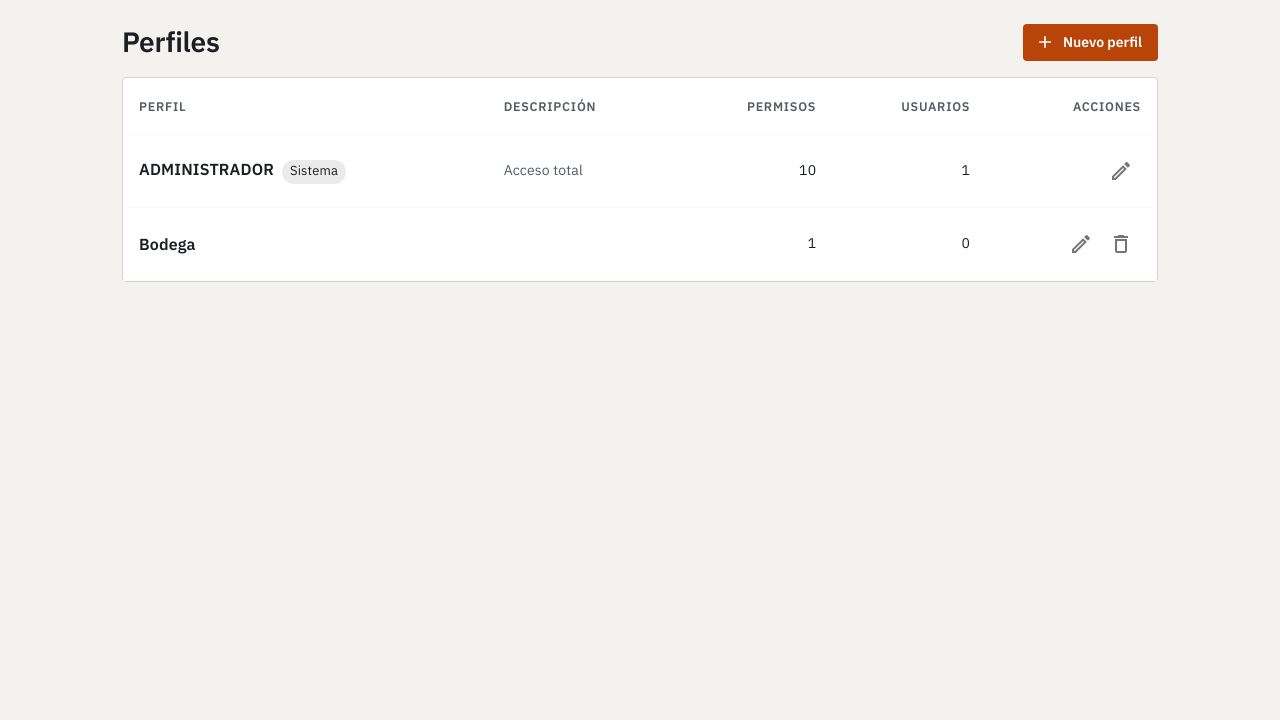
Test: Perfiles › el perfil de sistema se abre en solo lectura
Click the button named "Editar perfil: ADMINISTRADOR". click: (1121, 170)
box: [1101,150,1141,190]
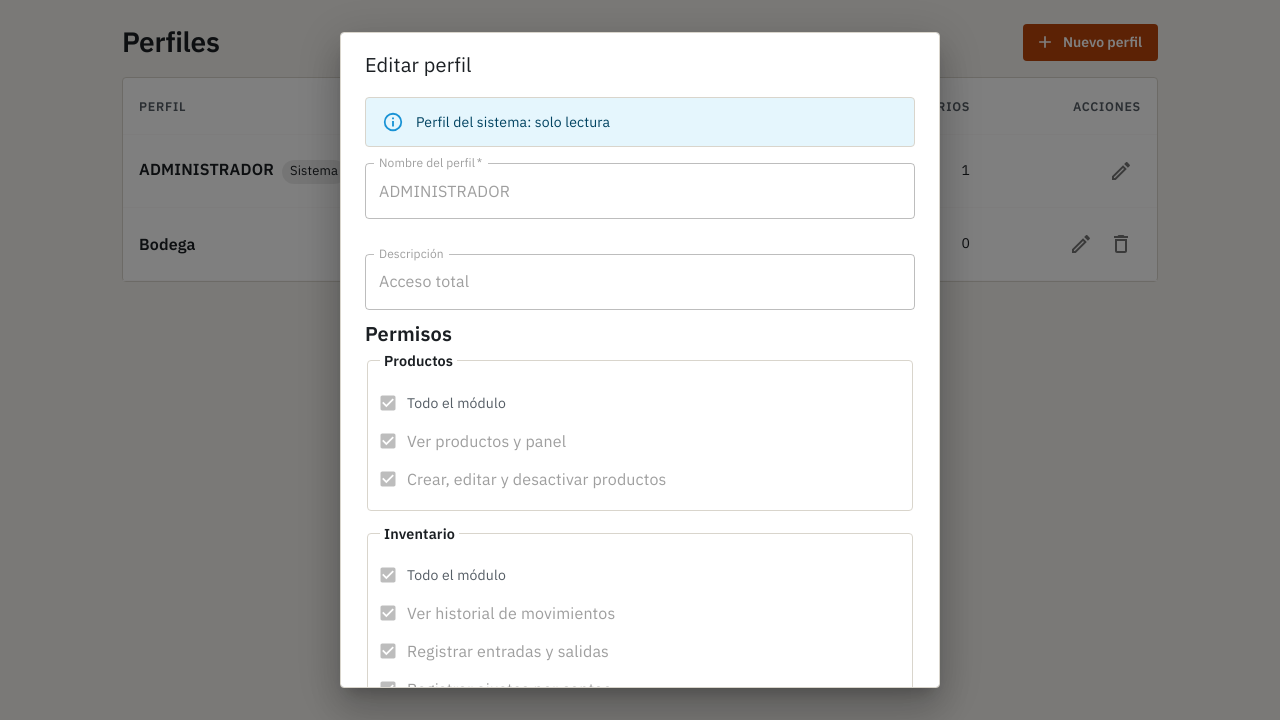
Now the text "Perfil del sistema: solo lectura" is shown, box [416,113,610,131]
Now the field labelled "Nombre del perfil *" is disabled, box [365,163,915,219]
